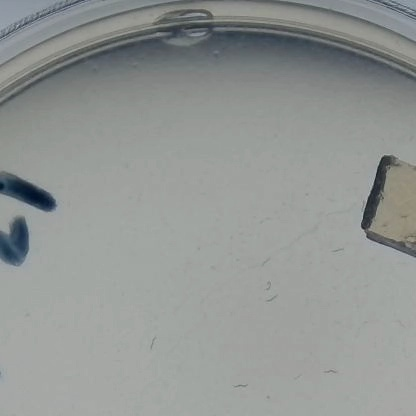worm: (142, 335, 160, 354), (231, 380, 251, 394), (392, 318, 408, 331), (326, 244, 346, 254), (263, 293, 281, 304), (258, 254, 271, 269), (256, 215, 273, 226), (261, 279, 275, 292), (322, 366, 337, 377), (292, 370, 303, 383)
